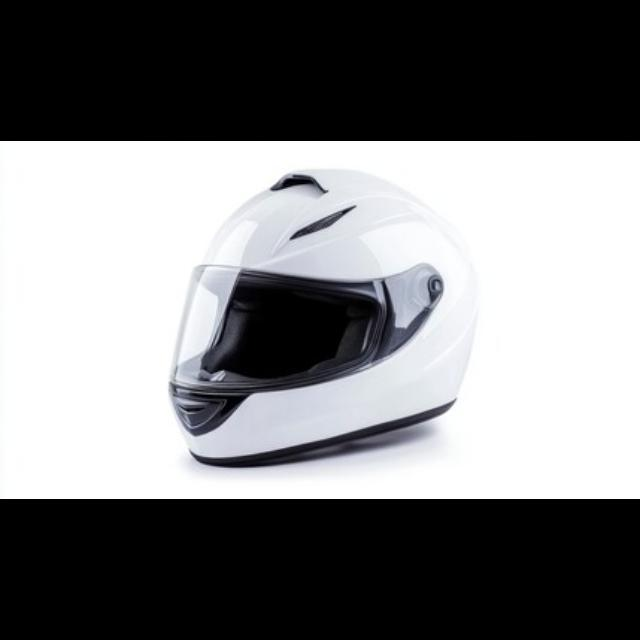motorcycle-helmets: (166, 169, 479, 470)
